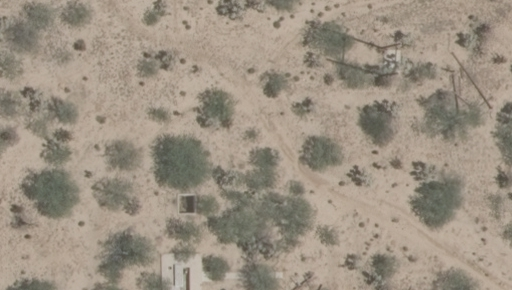TT: (377, 43, 402, 83)
